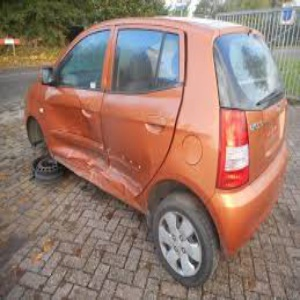door: (50, 116, 143, 193)
